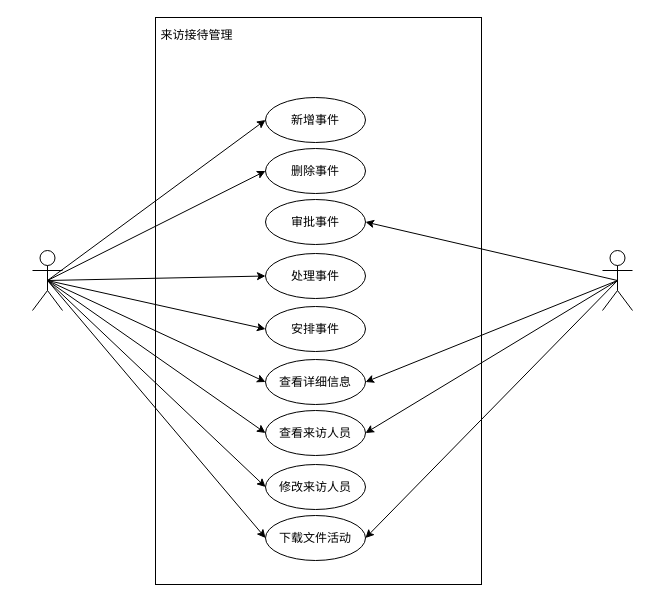
Some shapes in this 664 by 602 pixel diagram are drawn without their labels. Each missing label, with the box of its shape:
外事办老师: (32, 250, 62, 310)
外事办领导: (602, 250, 632, 310)
